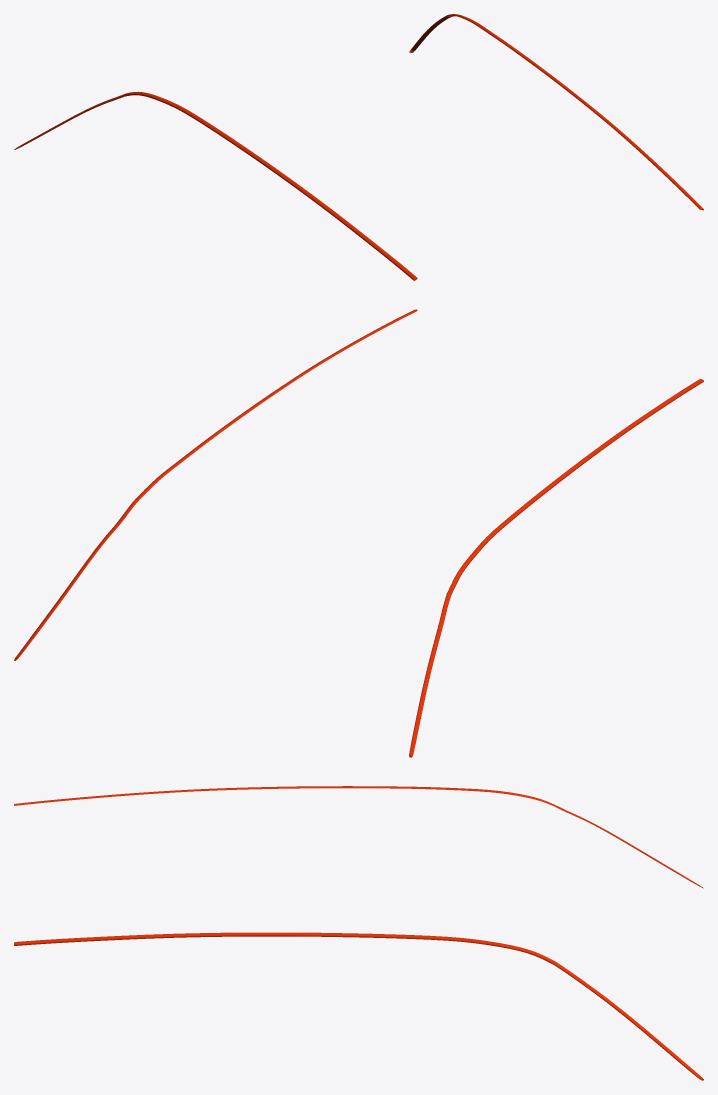
3 views of the same model, one above another, from view 1: azimuth 30°, elevation 25°; view 2: azimuth 150°, elevation 25°; view 3: azimuth 270°, elevation 25° (orthographic).
Parts seen in each view (by area): view 1: swift.047, swift.056; view 2: swift.047, swift.056; view 3: swift.056, swift.047.
Boxes of the visible parts, box(x1,y1,x2,y2) form: swift.047: box(14, 91, 417, 280); swift.056: box(409, 14, 703, 210); swift.047: box(409, 378, 703, 757); swift.056: box(14, 309, 417, 660); swift.056: box(14, 932, 703, 1080); swift.047: box(14, 786, 703, 888).
Size of the model in its own units: 168 by 50.61 by 254.
